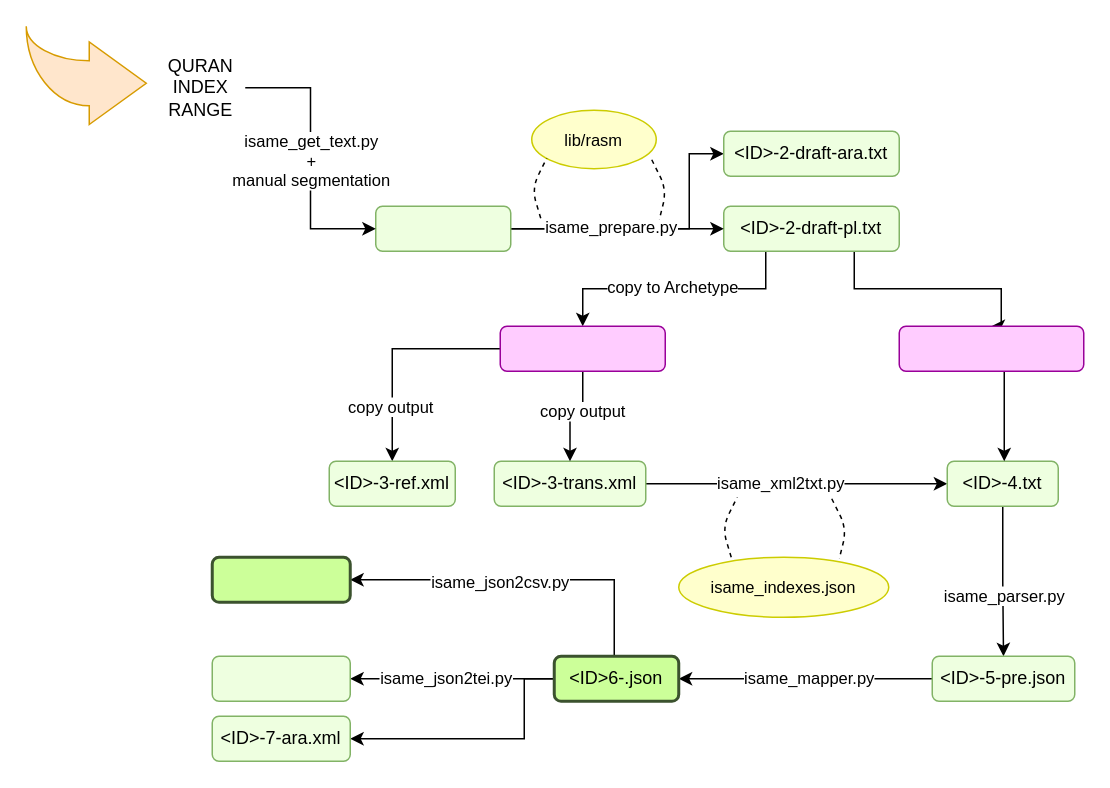
The diagram is 1110 pixels wide and 788 high, and some of its shapes have lost their labels. Here are the shapes that lost their labels. From the top down, the centre of each, then its label:
[442,228]: <ID> -1-ini.txt
[582,348]: transcribe in Archetype
[991,348]: transcribe in text editor (e.g. Sublime)
[280,579]: <ID>.csv
[280,678]: <ID>-7.xml
